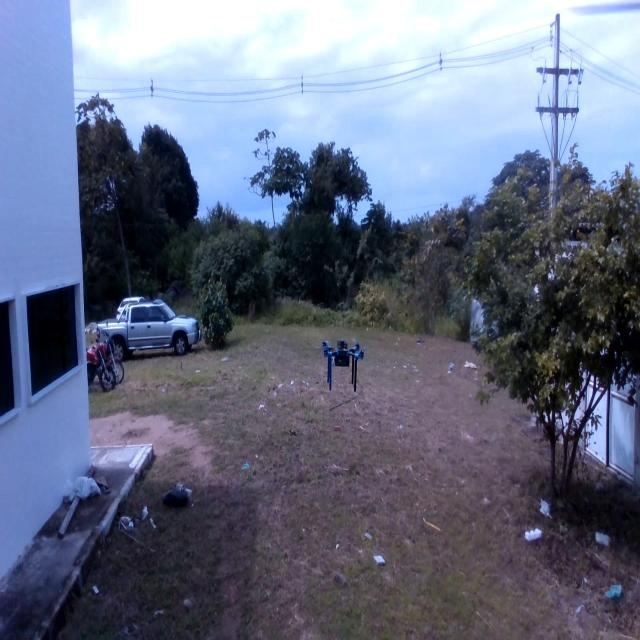-uav-: (314, 326, 368, 398)
